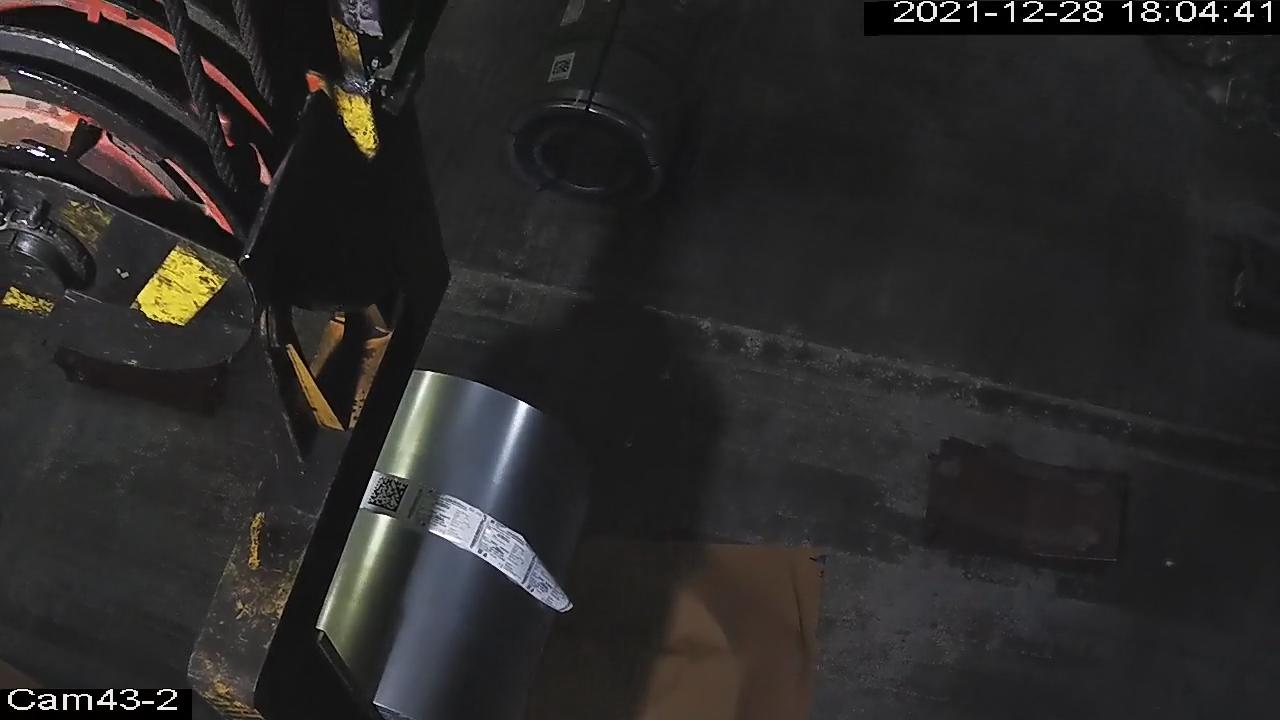data matrix: (367, 474, 411, 515), (551, 57, 574, 78)
